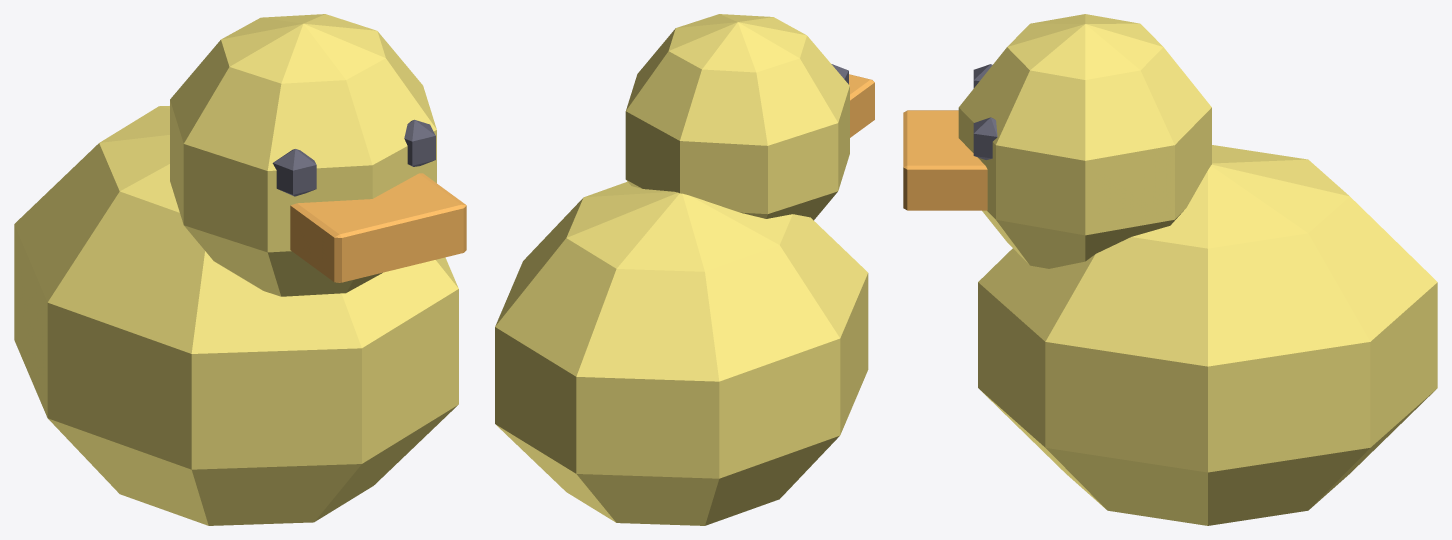
File: CF_HatDuck.fbx
3 views of the same model, side by side, from view 1: azimuth 30°, elevation 25°; view 2: azimuth 150°, elevation 25°; view 3: azimuth 270°, elevation 25° (orthographic). The views are drawn at different scales.
Parts seen in each view (by area): view 1: CF_HatDuck_Body, CF_HatDuck_Beak, CF_HatDuck_Eye; view 2: CF_HatDuck_Body, CF_HatDuck_Beak; view 3: CF_HatDuck_Body, CF_HatDuck_Beak, CF_HatDuck_Eye.
Boxes of the visible parts, left/top/right/bottom form: CF_HatDuck_Body: left=14, top=14, right=458, bottom=525; CF_HatDuck_Beak: left=290, top=173, right=466, bottom=282; CF_HatDuck_Eye: left=272, top=119, right=435, bottom=196; CF_HatDuck_Body: left=495, top=14, right=868, bottom=525; CF_HatDuck_Beak: left=849, top=74, right=874, bottom=137; CF_HatDuck_Body: left=958, top=14, right=1437, bottom=525; CF_HatDuck_Beak: left=903, top=110, right=987, bottom=210; CF_HatDuck_Eye: left=973, top=64, right=997, bottom=159.
Bounding box in the file's own units: 1.14 × 1.52 × 1.53.
